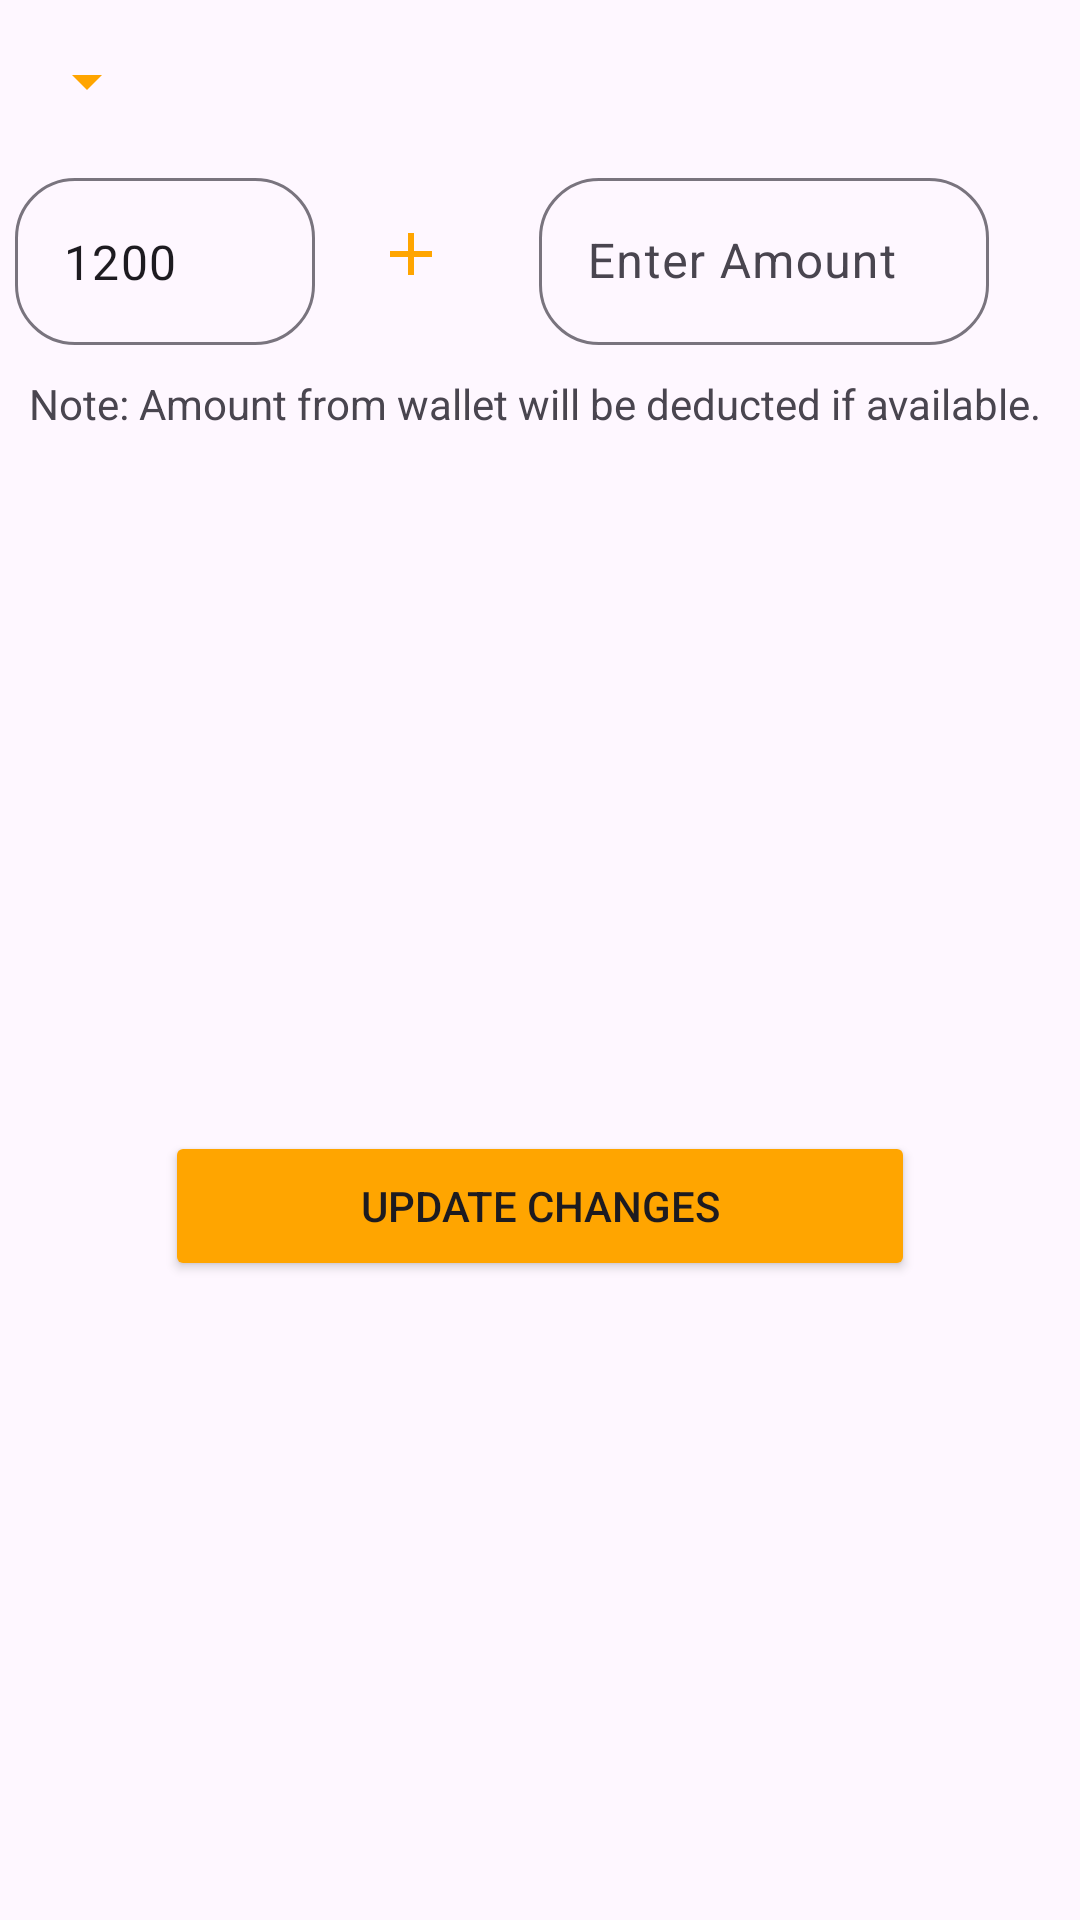

Icon click points for this 1080 × 1920 phone screenshot, format (x=x, y=y):
add: (x=411, y=254)
